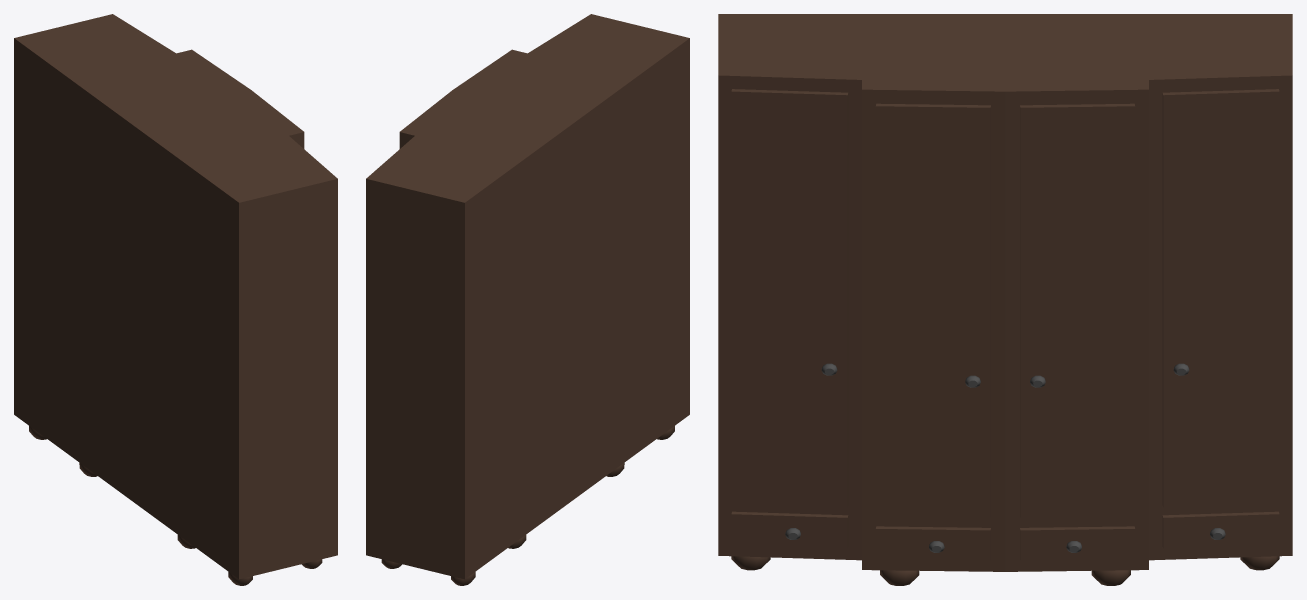
Rendered from S_Wardrobe.fbx.
The picture shows the model from 3 angles, left to right: view 1: azimuth 30°, elevation 25°; view 2: azimuth 150°, elevation 25°; view 3: azimuth 270°, elevation 25°; orthographic projection. The views are drawn at different scales.
Parts seen in each view (by area): view 1: S_Wardrobe; view 2: S_Wardrobe; view 3: S_Wardrobe.
Boxes of the visible parts, x1=… form: S_Wardrobe: x1=14, y1=14, x2=337, y2=585; S_Wardrobe: x1=366, y1=14, x2=689, y2=585; S_Wardrobe: x1=718, y1=14, x2=1292, y2=585.
Size of the model in its own units: 89.43 by 250 by 260.
